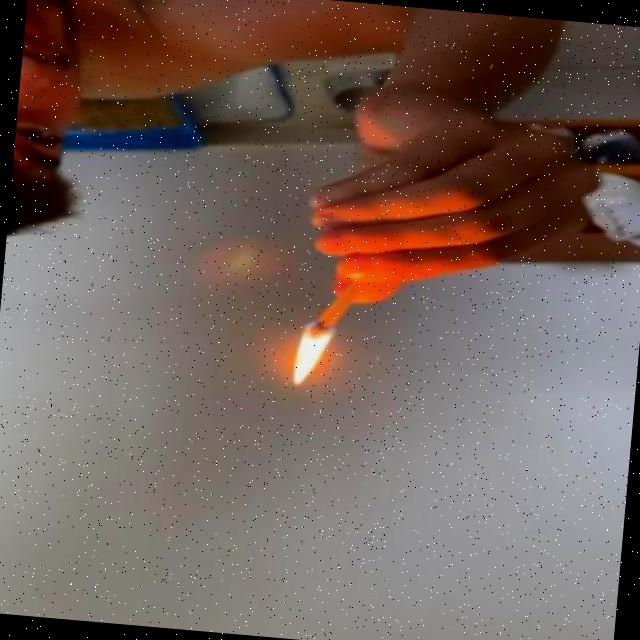fire: (286, 315, 339, 391)
